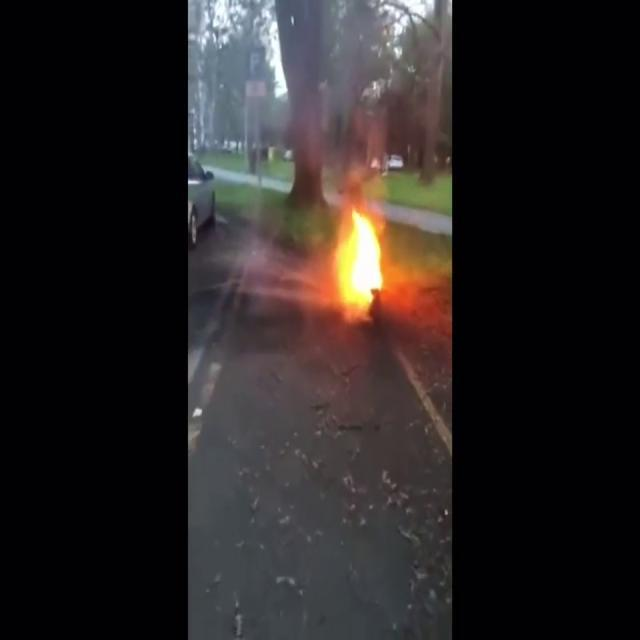Fire: (333, 200, 391, 306)
Smoke: (258, 0, 406, 191)
